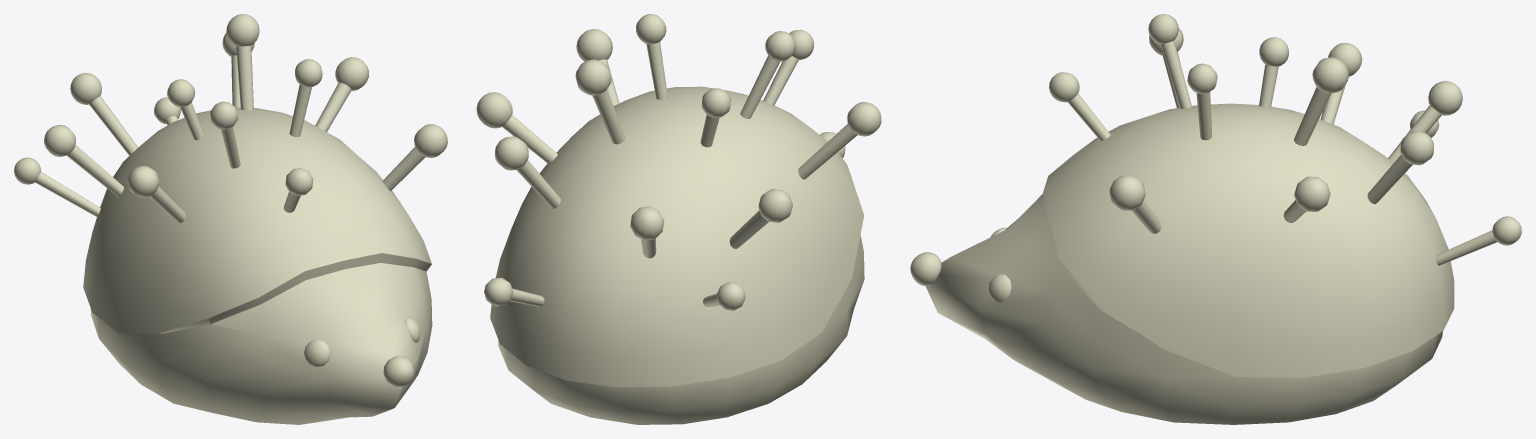
The model's file is NeedleEnemy.glb.
3 renders of one model, left to right at view 1: azimuth 30°, elevation 25°; view 2: azimuth 150°, elevation 25°; view 3: azimuth 270°, elevation 25°, orthographic. The views are drawn at different scales.
Visible parts, largest first — view 1: pSphere7, pSphere12, pSphere17, pSphere18, pSphere13, pSphere14, pSphere23, pSphere15, pSphere21, pSphere16, pSphere22, pSphere9 (+4 smaller); view 2: pSphere7, pSphere13, pSphere15, pSphere12, pSphere19, pSphere16, pSphere18, pSphere21, pSphere20, pSphere14, pSphere17, pSphere22 (+2 smaller); view 3: pSphere7, pSphere12, pSphere19, pSphere16, pSphere17, pSphere14, pSphere24, pSphere20, pSphere21, pSphere13, pSphere22, pSphere18 (+2 smaller).
Part boxes in pixels (x1,y1,x2,y2): pSphere7: [83, 107, 432, 424]; pSphere12: [226, 14, 259, 110]; pSphere17: [70, 72, 137, 155]; pSphere18: [44, 124, 123, 197]; pSphere13: [315, 57, 368, 131]; pSphere14: [382, 124, 447, 191]; pSphere23: [14, 157, 100, 217]; pSphere15: [127, 166, 185, 223]; pSphere21: [289, 59, 322, 136]; pSphere16: [210, 101, 240, 168]; pSphere22: [167, 79, 204, 140]; pSphere9: [304, 317, 420, 367]; pSphere7: [490, 86, 864, 424]; pSphere13: [476, 92, 557, 164]; pSphere15: [798, 102, 881, 179]; pSphere12: [575, 59, 625, 144]; pSphere19: [495, 136, 560, 208]; pSphere16: [740, 31, 795, 118]; pSphere18: [729, 189, 792, 248]; pSphere21: [636, 14, 667, 99]; pSphere20: [763, 30, 813, 105]; pSphere14: [576, 29, 619, 105]; pSphere17: [630, 206, 664, 258]; pSphere22: [700, 88, 730, 147]; pSphere7: [925, 103, 1454, 424]; pSphere12: [1294, 57, 1348, 145]; pSphere19: [1367, 131, 1433, 203]; pSphere16: [1148, 14, 1191, 108]; pSphere17: [1388, 81, 1462, 162]; pSphere14: [1109, 175, 1161, 233]; pSphere24: [1435, 216, 1521, 265]; pSphere20: [1049, 72, 1110, 140]; pSphere21: [1187, 63, 1217, 140]; pSphere13: [1283, 176, 1330, 222]; pSphere22: [1259, 37, 1288, 107]; pSphere18: [1320, 43, 1362, 124].
Bounding box in the file's own units: 1.88 × 1.76 × 3.03.
